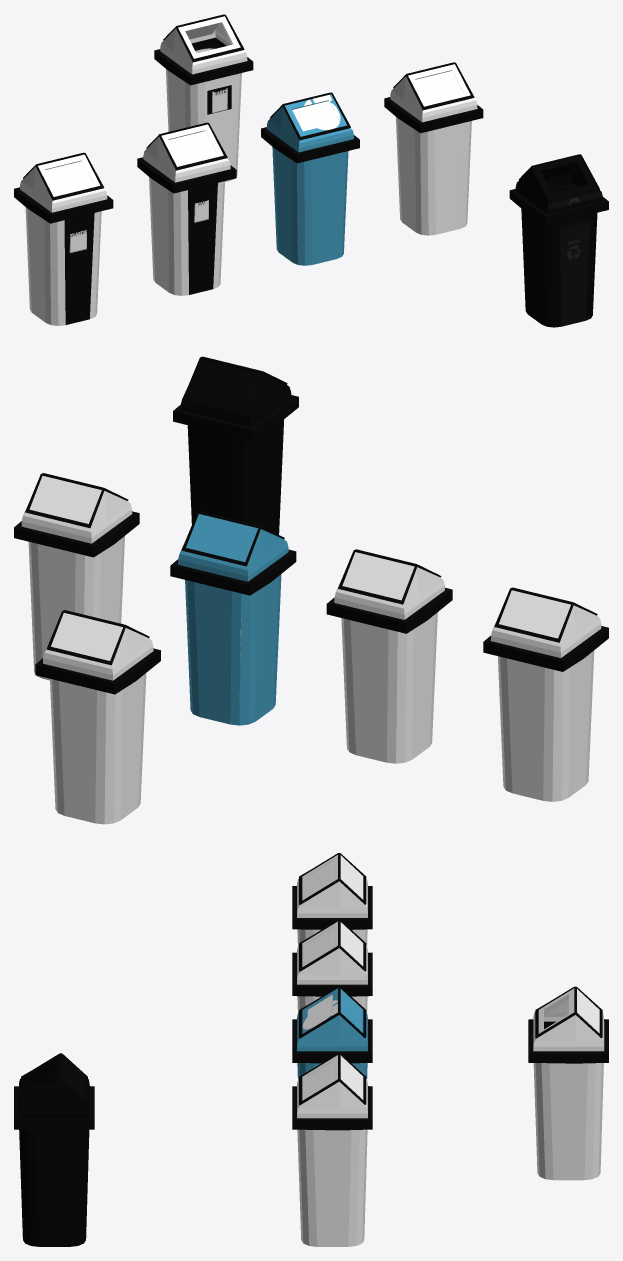
File: recycleBin2.glb
3 renders of one model, top to bottom at view 1: azimuth 30°, elevation 25°; view 2: azimuth 150°, elevation 25°; view 3: azimuth 270°, elevation 25°, orthographic. The views are drawn at different scales.
Parts seen in each view (by area): view 1: bakeMetal, plasticMain, glassMain, metalMain, paperBake, paperMain, paperCover, glassCover, plasticCover, metalCover; view 2: glassMain, paperBake, paperMain, plasticMain, bakeMetal, metalMain; view 3: paperMain, bakeMetal, metalMain, glassMain, paperBake, plasticMain, glassCover, paperCover, plasticCover, metalCover.
Part boxes in pixels (x1,y1,x2,y2): bakeMetal: [509, 154, 608, 327]; plasticMain: [14, 152, 113, 325]; glassMain: [137, 122, 236, 295]; metalMain: [384, 62, 483, 235]; paperBake: [261, 92, 359, 265]; paperMain: [154, 14, 253, 182]; paperCover: [292, 101, 339, 131]; glassCover: [169, 131, 216, 161]; plasticCover: [45, 161, 92, 191]; metalCover: [416, 70, 462, 101]; glassMain: [326, 549, 452, 763]; paperBake: [170, 511, 296, 725]; paperMain: [35, 610, 160, 824]; plasticMain: [483, 587, 608, 801]; bakeMetal: [173, 356, 298, 534]; metalMain: [14, 473, 139, 680]; paperMain: [528, 986, 608, 1180]; bakeMetal: [14, 1053, 94, 1246]; metalMain: [292, 1053, 372, 1246]; glassMain: [292, 920, 372, 1012]; paperBake: [292, 986, 372, 1078]; plasticMain: [292, 853, 372, 945]; glassCover: [307, 928, 332, 962]; paperCover: [307, 994, 332, 1028]; plasticCover: [307, 861, 332, 895]; metalCover: [307, 1061, 332, 1095].
Size of the model in its own units: 17.67 by 5.84 by 18.84.
Materials: 17 (5 with a texture image).
